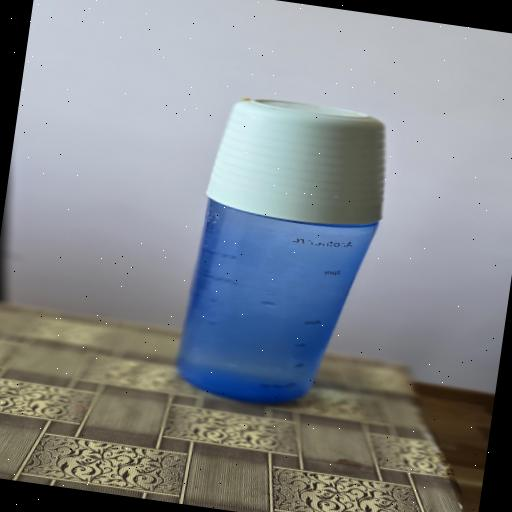bottle: (179, 202, 384, 422)
